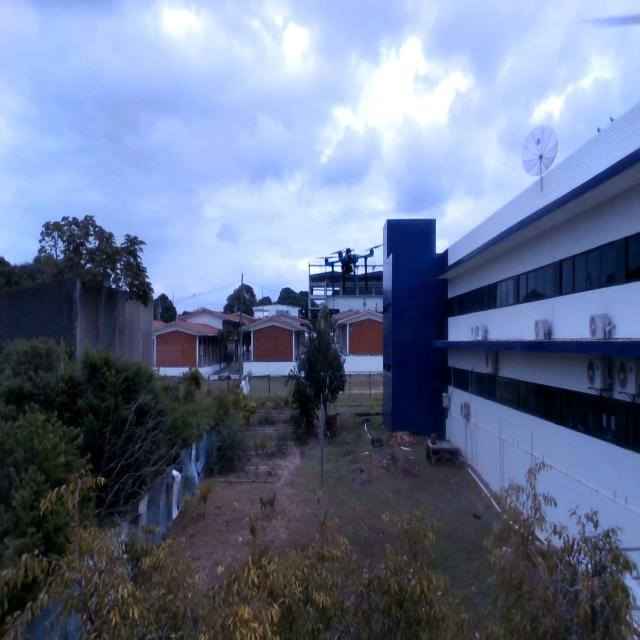-uav-: (319, 238, 376, 304)
